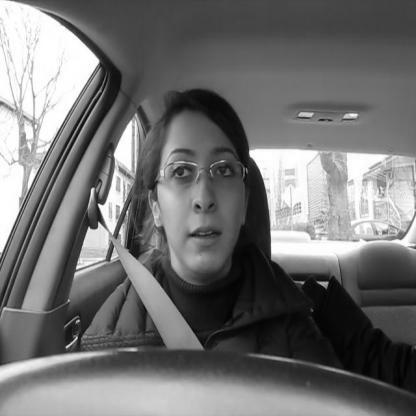seatbelt: (81, 51, 274, 350)
